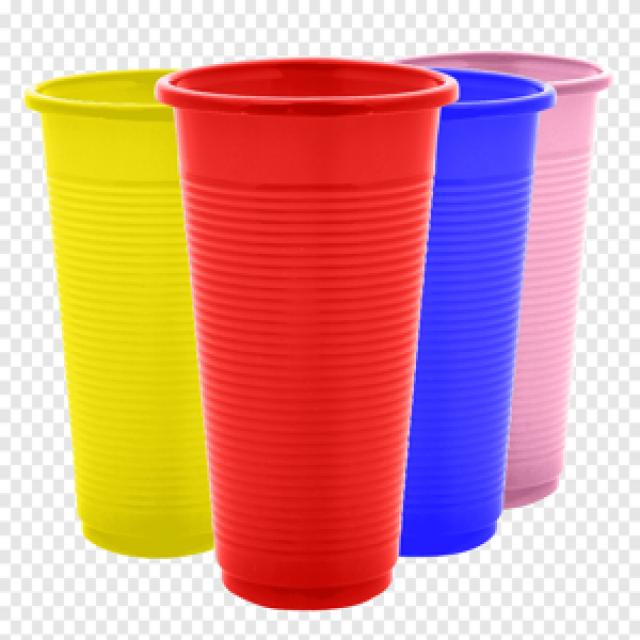plastic cup: (152, 51, 465, 614), (391, 49, 610, 516), (22, 62, 214, 565), (373, 62, 559, 563)
